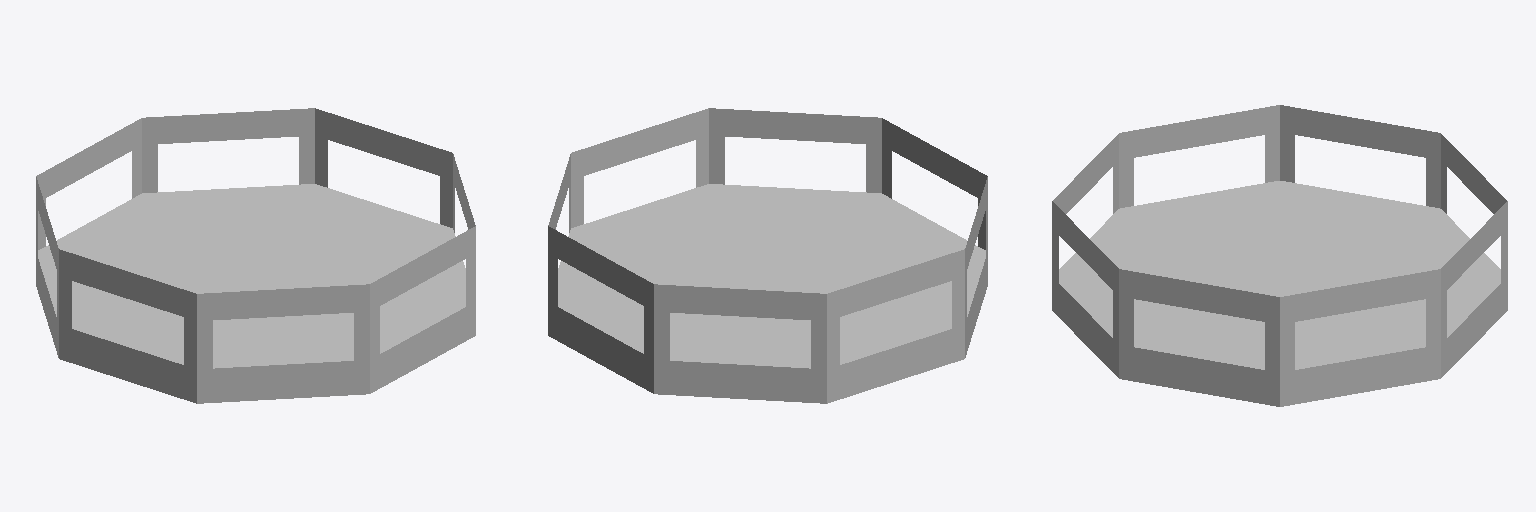
Rendered from overhang-round-railing.obj.
3 views of the same model, side by side, from view 1: azimuth 30°, elevation 25°; view 2: azimuth 150°, elevation 25°; view 3: azimuth 270°, elevation 25° (orthographic).
Visible parts, largest first — view 1: overhang-round-railing, Group; view 2: overhang-round-railing, Group; view 3: overhang-round-railing, Group.
Boxes of the visible parts, x1,y1,x2,y2 form: overhang-round-railing: [36, 136, 475, 403]; Group: [36, 108, 475, 320]; overhang-round-railing: [548, 136, 987, 403]; Group: [548, 108, 987, 320]; overhang-round-railing: [1052, 132, 1507, 406]; Group: [1052, 105, 1507, 324].
Bounding box in the file's own units: 1.5 × 0.4 × 1.5.